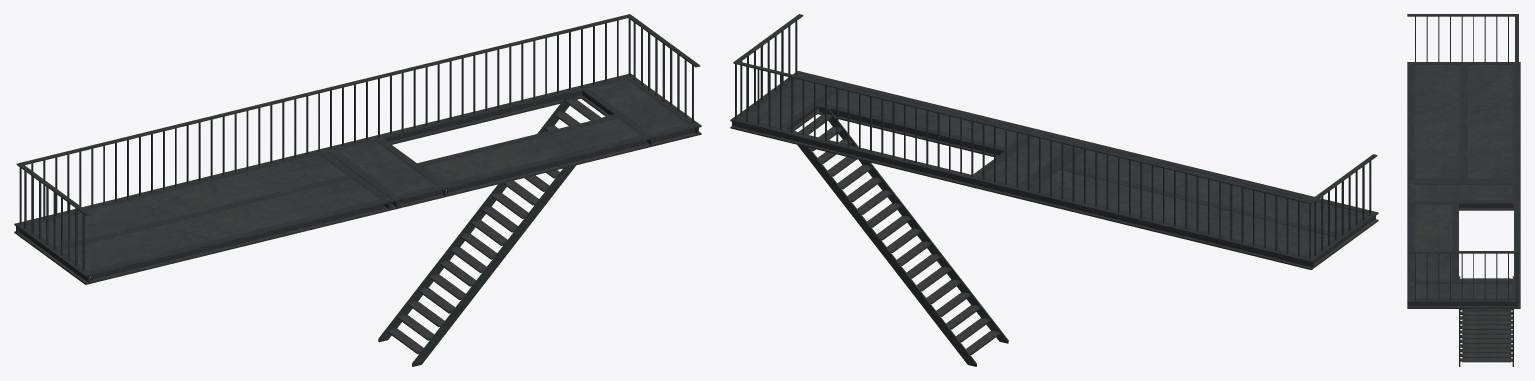
File: FireEscape_Long.fbx
The picture shows the model from 3 angles, left to right: view 1: azimuth 30°, elevation 25°; view 2: azimuth 150°, elevation 25°; view 3: azimuth 270°, elevation 25°; orthographic projection. The views are drawn at different scales.
Parts seen in each view (by area): view 1: FireEscape_Long_LOD0; view 2: FireEscape_Long_LOD0; view 3: FireEscape_Long_LOD0.
Part boxes in pixels (<box>): FireEscape_Long_LOD0: <box>14,14,701,366</box>; FireEscape_Long_LOD0: <box>730,14,1378,366</box>; FireEscape_Long_LOD0: <box>1407,14,1520,366</box>.
Size of what is drawn, in the model's own units: 1000 by 408 by 200.
